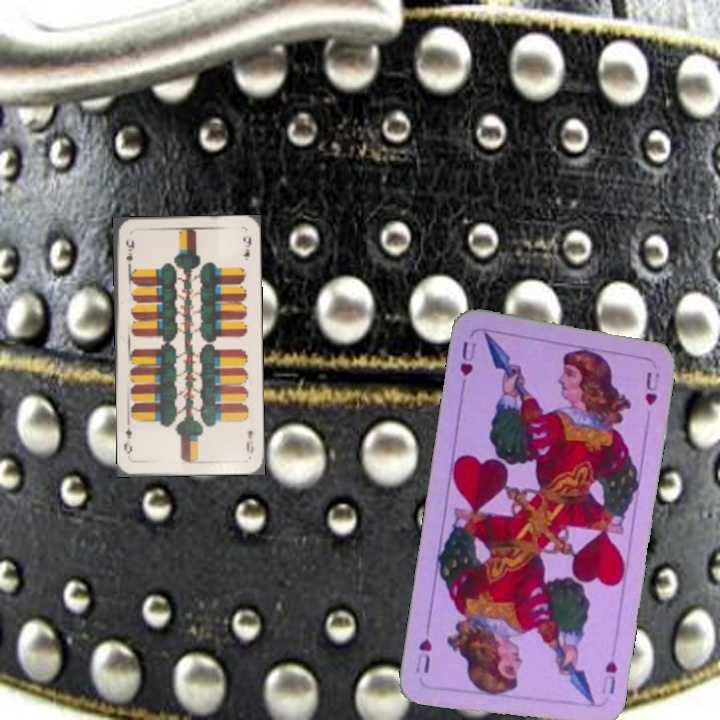E9: (242, 426, 257, 456), (122, 236, 136, 264)
HU: (593, 656, 620, 698), (456, 338, 479, 378)
